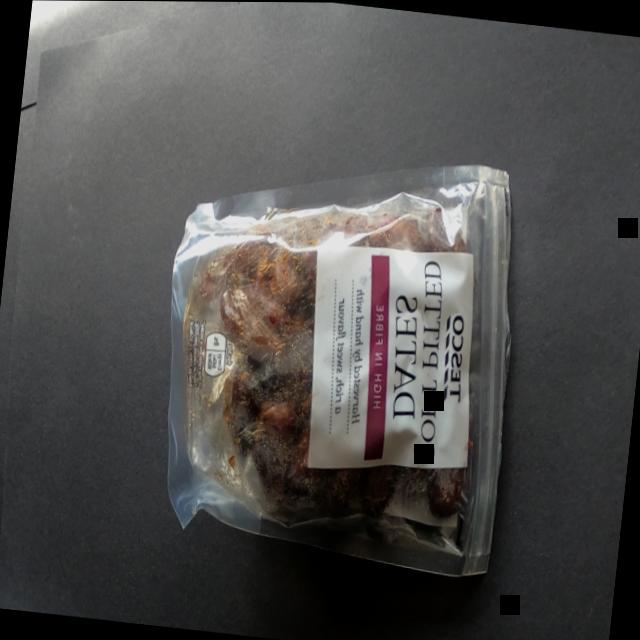Medjooldates: (128, 113, 542, 605)
